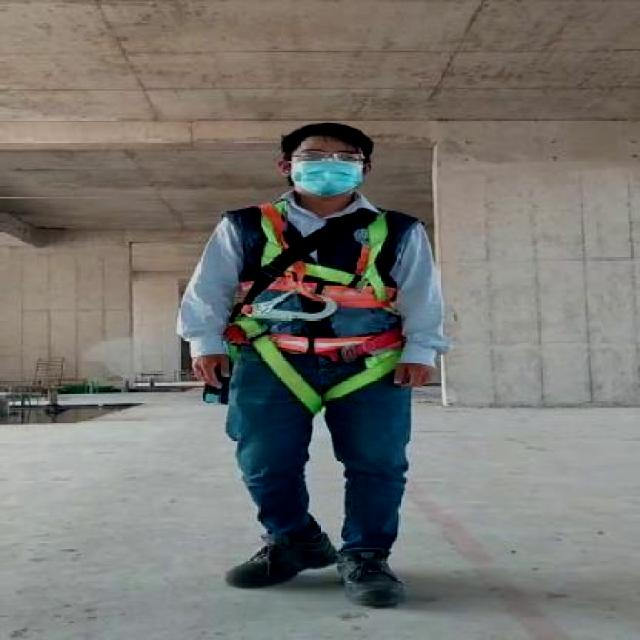face_mask: (290, 146, 368, 194)
glasses: (289, 145, 368, 169)
hand_noglove: (184, 346, 238, 391), (388, 352, 440, 392)
head_nohelmet: (274, 114, 378, 149)
person: (181, 118, 456, 605)
shoes: (217, 526, 341, 591), (327, 535, 415, 613)
vest: (214, 193, 420, 359)
